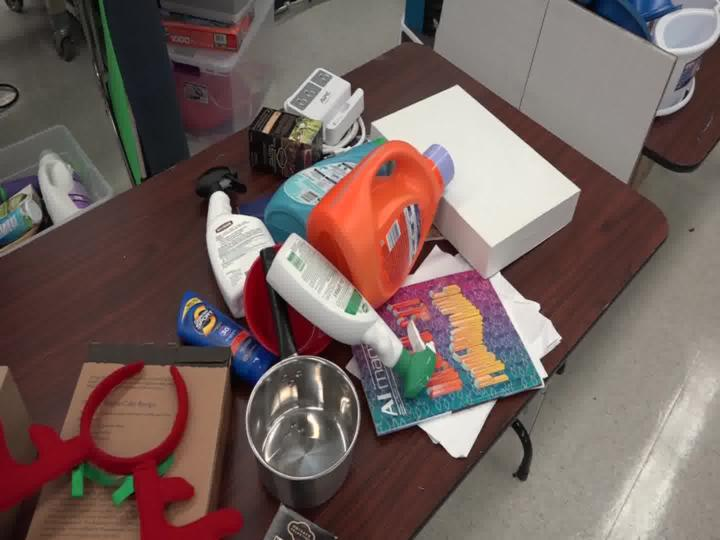downy: (246, 130, 385, 260)
